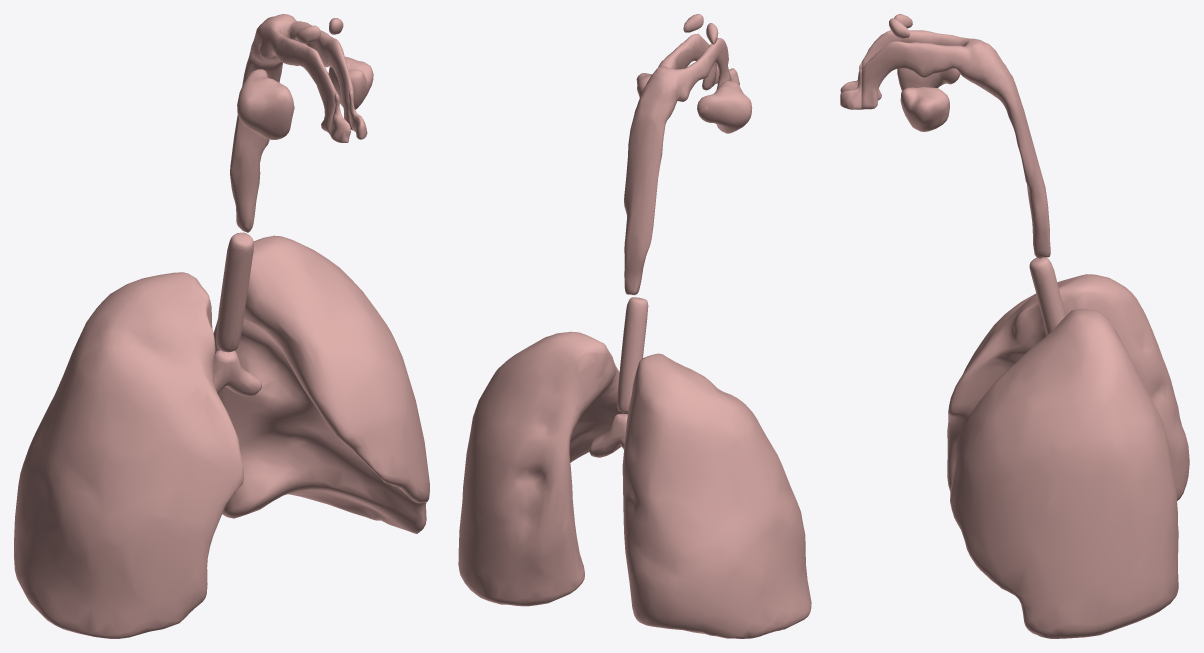
Rendered from pediatric_child_10y_female.respiratory.LOD0.glb.
3 views of the same model, side by side, from view 1: azimuth 30°, elevation 25°; view 2: azimuth 150°, elevation 25°; view 3: azimuth 270°, elevation 25° (orthographic). The views are drawn at different scales.
Parts seen in each view (by area): view 1: PEDIATRIC.CHILD_10Y.FEMALE.RESPIRATORY.LUNG.R, PEDIATRIC.CHILD_10Y.FEMALE.RESPIRATORY.LUNG.L, PEDIATRIC.CHILD_10Y.FEMALE.RESPIRATORY.ET2, PEDIATRIC.CHILD_10Y.FEMALE.RESPIRATORY.TRACHEA, PEDIATRIC.CHILD_10Y.FEMALE.RESPIRATORY.BB1, PEDIATRIC.CHILD_10Y.FEMALE.RESPIRATORY.ET1; view 2: PEDIATRIC.CHILD_10Y.FEMALE.RESPIRATORY.LUNG.R, PEDIATRIC.CHILD_10Y.FEMALE.RESPIRATORY.LUNG.L, PEDIATRIC.CHILD_10Y.FEMALE.RESPIRATORY.ET2, PEDIATRIC.CHILD_10Y.FEMALE.RESPIRATORY.TRACHEA, PEDIATRIC.CHILD_10Y.FEMALE.RESPIRATORY.BB1; view 3: PEDIATRIC.CHILD_10Y.FEMALE.RESPIRATORY.LUNG.L, PEDIATRIC.CHILD_10Y.FEMALE.RESPIRATORY.LUNG.R, PEDIATRIC.CHILD_10Y.FEMALE.RESPIRATORY.ET2, PEDIATRIC.CHILD_10Y.FEMALE.RESPIRATORY.TRACHEA, PEDIATRIC.CHILD_10Y.FEMALE.RESPIRATORY.ET1.
Boxes of the visible parts, box(x1,y1,x2,y2) form: PEDIATRIC.CHILD_10Y.FEMALE.RESPIRATORY.LUNG.R: box(14, 272, 243, 638); PEDIATRIC.CHILD_10Y.FEMALE.RESPIRATORY.LUNG.L: box(213, 235, 429, 533); PEDIATRIC.CHILD_10Y.FEMALE.RESPIRATORY.ET2: box(230, 14, 373, 232); PEDIATRIC.CHILD_10Y.FEMALE.RESPIRATORY.TRACHEA: box(216, 232, 253, 352); PEDIATRIC.CHILD_10Y.FEMALE.RESPIRATORY.BB1: box(214, 350, 261, 396); PEDIATRIC.CHILD_10Y.FEMALE.RESPIRATORY.ET1: box(329, 89, 367, 142); PEDIATRIC.CHILD_10Y.FEMALE.RESPIRATORY.LUNG.R: box(622, 353, 811, 638); PEDIATRIC.CHILD_10Y.FEMALE.RESPIRATORY.LUNG.L: box(458, 331, 627, 606); PEDIATRIC.CHILD_10Y.FEMALE.RESPIRATORY.ET2: box(624, 14, 752, 295); PEDIATRIC.CHILD_10Y.FEMALE.RESPIRATORY.TRACHEA: box(617, 297, 648, 412); PEDIATRIC.CHILD_10Y.FEMALE.RESPIRATORY.BB1: box(589, 413, 627, 457); PEDIATRIC.CHILD_10Y.FEMALE.RESPIRATORY.LUNG.L: box(950, 309, 1178, 638); PEDIATRIC.CHILD_10Y.FEMALE.RESPIRATORY.LUNG.R: box(947, 274, 1189, 500); PEDIATRIC.CHILD_10Y.FEMALE.RESPIRATORY.ET2: box(861, 14, 1050, 259); PEDIATRIC.CHILD_10Y.FEMALE.RESPIRATORY.TRACHEA: box(1029, 257, 1065, 335); PEDIATRIC.CHILD_10Y.FEMALE.RESPIRATORY.ET1: box(840, 62, 861, 109).
Size of the model in its own units: 0.198 by 0.3062 by 0.1762.
